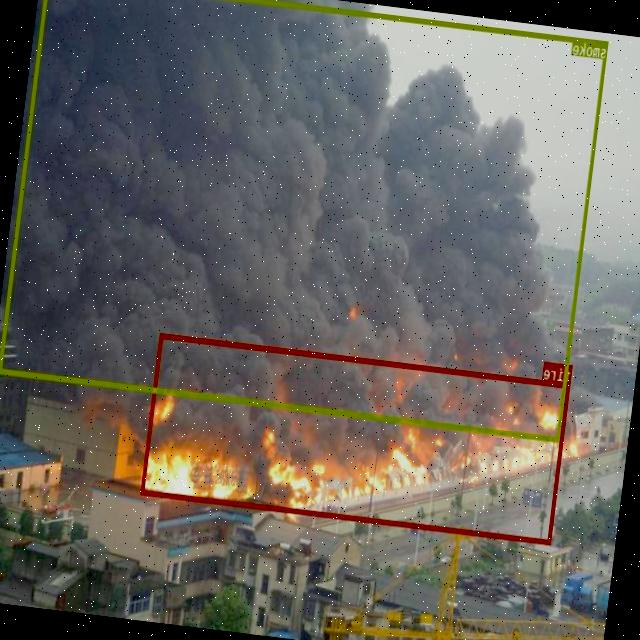fire: (141, 332, 571, 544)
smoke: (0, 0, 609, 441)
